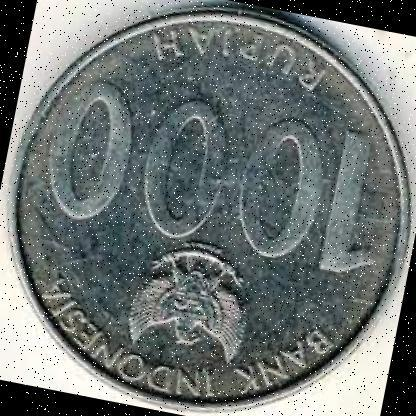coin_1000_e2010: (9, 4, 414, 410)
